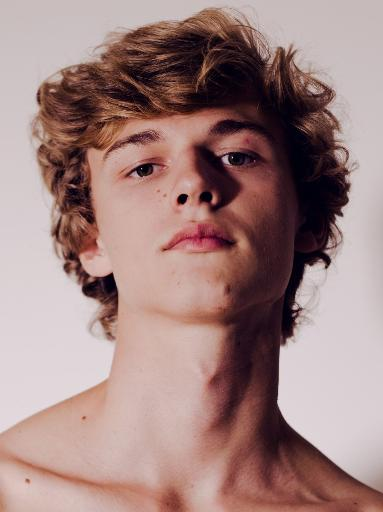left_eye: (217, 151, 264, 171)
left_lip_corner: (226, 234, 243, 253)
right_eye: (118, 160, 168, 183)
right_lip_corner: (156, 241, 175, 258)
